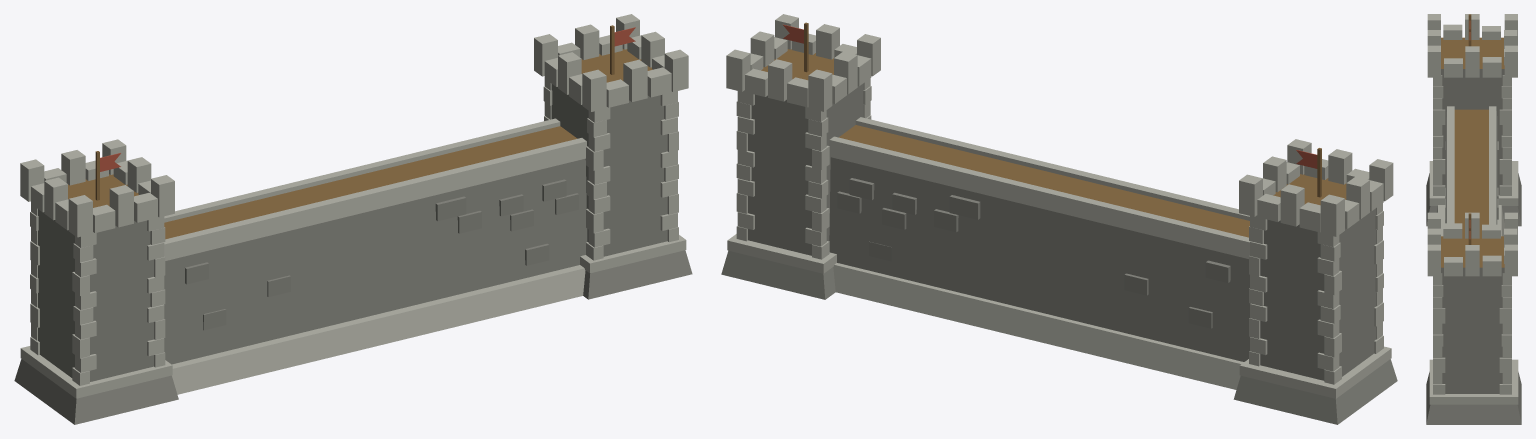
Rendered from Stone Wall Towers.glb.
3 renders of one model, left to right at view 1: azimuth 30°, elevation 25°; view 2: azimuth 150°, elevation 25°; view 3: azimuth 270°, elevation 25°, orthographic. The views are drawn at different scales.
Parts seen in each view (by area): view 1: WallTowers_SecondAge; view 2: WallTowers_SecondAge; view 3: WallTowers_SecondAge.
Boxes of the visible parts, <box> form: WallTowers_SecondAge: <box>14,14,692,424</box>; WallTowers_SecondAge: <box>721,14,1397,424</box>; WallTowers_SecondAge: <box>1426,14,1521,424</box>.
Bounding box in the file's own units: 1.98 × 0.7353 × 0.3334.
